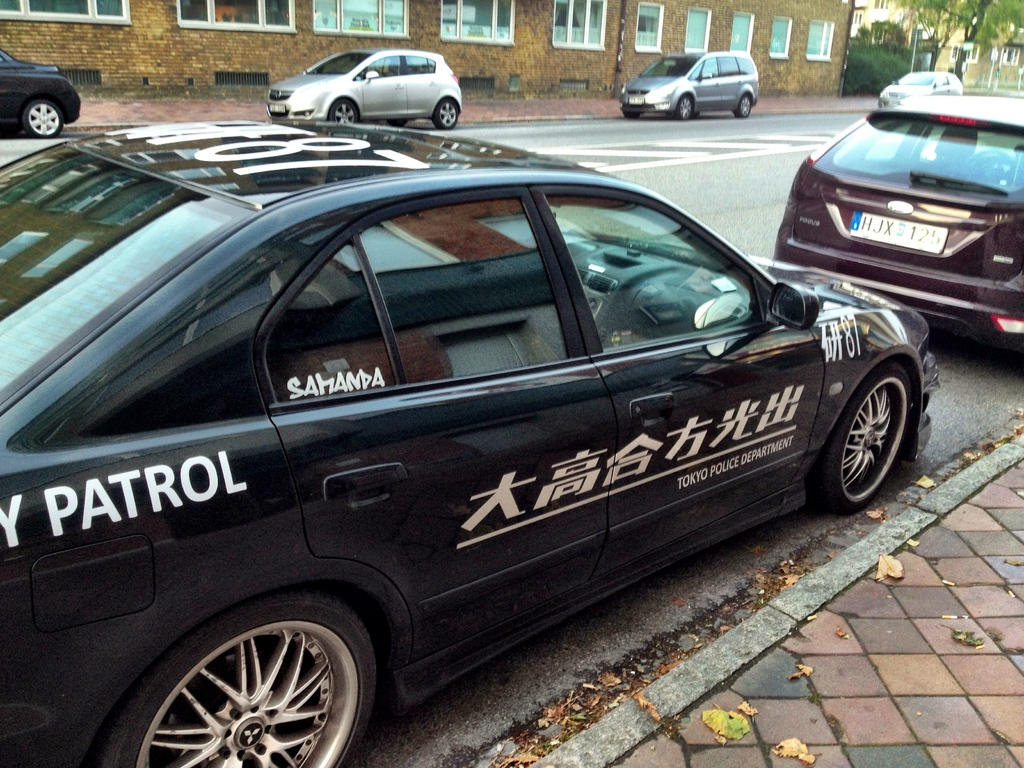Car: (0, 133, 934, 768), (776, 97, 1023, 365), (268, 51, 463, 124), (619, 53, 760, 117), (0, 53, 78, 131), (877, 71, 967, 111)
